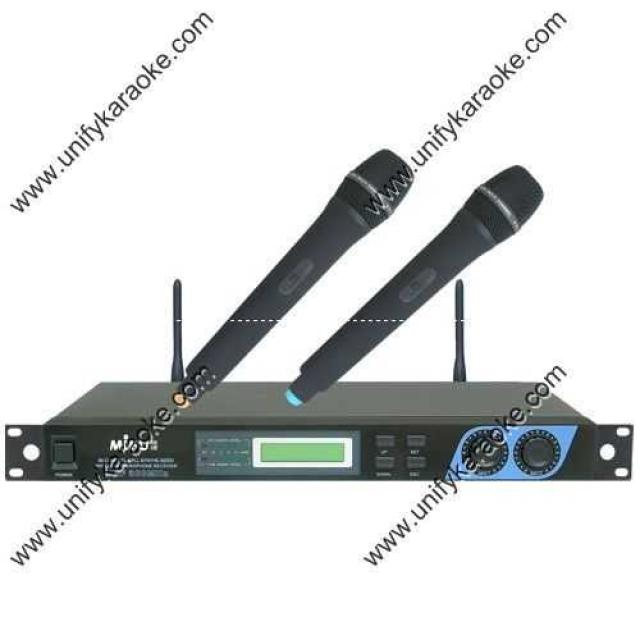microphone: (172, 148, 546, 412)
